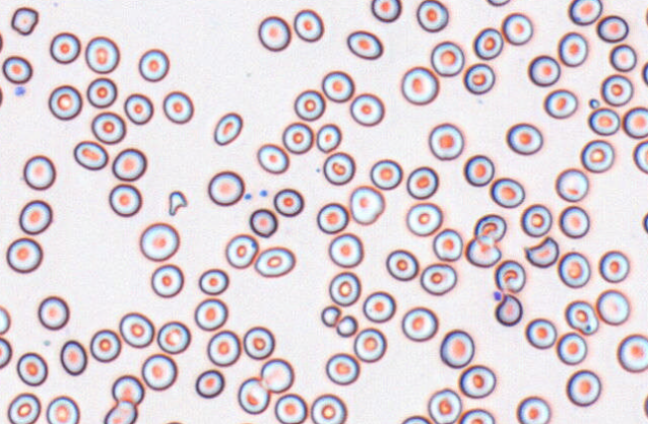PLT: (14, 85, 27, 97), (258, 188, 268, 199), (244, 193, 253, 201)
RBC: (139, 222, 179, 261), (400, 66, 439, 105), (349, 185, 384, 225), (5, 237, 43, 273), (141, 353, 177, 391), (565, 369, 601, 407), (428, 122, 464, 160), (439, 329, 474, 368), (207, 170, 244, 206), (84, 35, 119, 73), (118, 312, 154, 348), (401, 306, 438, 341), (595, 288, 630, 325), (458, 364, 496, 398), (254, 246, 295, 277), (259, 357, 294, 393), (405, 202, 442, 236), (206, 329, 240, 366), (328, 232, 363, 267), (22, 154, 56, 190), (111, 147, 147, 181), (564, 299, 598, 335), (48, 84, 82, 120), (430, 40, 464, 76), (257, 15, 291, 51), (237, 377, 270, 414), (419, 262, 456, 295), (506, 122, 543, 155), (557, 251, 590, 288), (616, 333, 647, 372), (150, 263, 184, 298), (427, 388, 461, 423), (18, 199, 52, 234), (349, 92, 384, 126), (90, 111, 126, 144), (156, 320, 190, 354), (194, 297, 228, 331), (108, 183, 142, 217), (580, 139, 614, 173), (225, 233, 258, 268), (555, 167, 588, 202), (353, 327, 386, 362), (465, 235, 501, 267), (346, 29, 383, 60), (322, 151, 355, 185), (325, 352, 359, 385), (37, 295, 69, 330), (328, 271, 360, 306), (16, 351, 48, 386), (557, 31, 588, 67), (310, 393, 347, 423), (385, 248, 418, 281), (362, 290, 395, 323), (600, 73, 633, 106), (89, 328, 121, 362), (520, 203, 552, 237), (406, 165, 438, 199), (242, 325, 274, 359), (162, 90, 194, 124), (489, 177, 524, 208), (558, 205, 590, 238), (321, 70, 354, 102), (369, 158, 402, 190), (527, 54, 560, 86), (501, 12, 533, 45), (7, 392, 41, 423), (598, 249, 629, 283), (556, 331, 587, 365), (494, 259, 525, 293), (543, 88, 577, 119), (293, 8, 324, 42), (138, 48, 169, 82), (73, 140, 108, 170), (59, 339, 87, 376), (524, 317, 556, 349), (316, 202, 348, 234), (463, 62, 495, 94), (416, 0, 448, 32), (293, 89, 325, 121), (111, 374, 144, 405), (274, 393, 307, 424), (49, 31, 80, 64), (256, 143, 289, 174), (282, 121, 313, 154), (463, 154, 494, 186), (432, 228, 462, 261), (123, 92, 153, 125), (473, 27, 503, 60), (45, 395, 79, 424), (213, 111, 242, 145), (515, 395, 550, 423), (86, 77, 117, 108), (588, 106, 620, 136), (473, 213, 506, 242), (273, 187, 304, 217), (596, 14, 628, 42), (194, 369, 224, 398), (2, 55, 32, 84), (568, 0, 602, 25), (608, 43, 637, 72), (248, 208, 277, 237), (622, 106, 648, 138), (103, 400, 137, 424), (198, 268, 228, 295), (315, 123, 341, 153), (370, 0, 401, 22), (457, 407, 495, 423), (632, 139, 648, 173), (0, 336, 12, 369), (399, 414, 432, 424), (0, 304, 10, 335), (642, 59, 648, 86), (484, 0, 511, 6), (642, 210, 648, 234), (643, 392, 648, 420), (160, 420, 186, 424), (644, 4, 648, 29), (0, 81, 3, 110), (232, 421, 260, 424), (0, 27, 3, 54)
Schistocyte: (522, 238, 560, 270), (493, 293, 524, 327), (11, 7, 40, 37), (335, 314, 358, 338), (168, 190, 188, 216), (320, 306, 340, 328)
